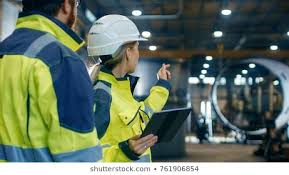Person_wearing_helmet: (83, 13, 141, 64)
